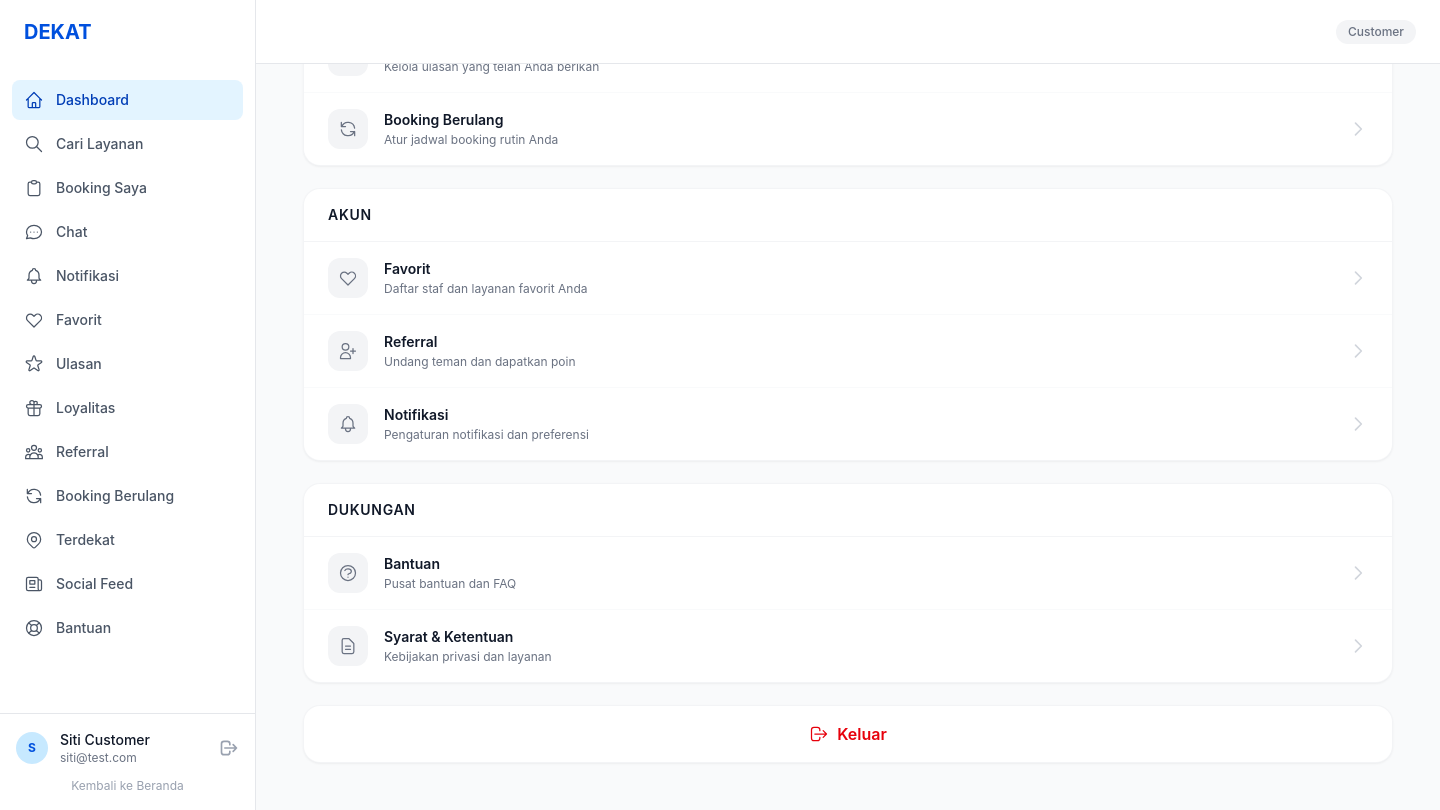
Test case: CustomerAccountPage › shows logout button and opens confirmation dialog
The image size is (1440, 810).
(page scrolled)
Click the button "Keluar" at {"x": 848, "y": 734}, box [304,706,1392,762]
(page scrolled)
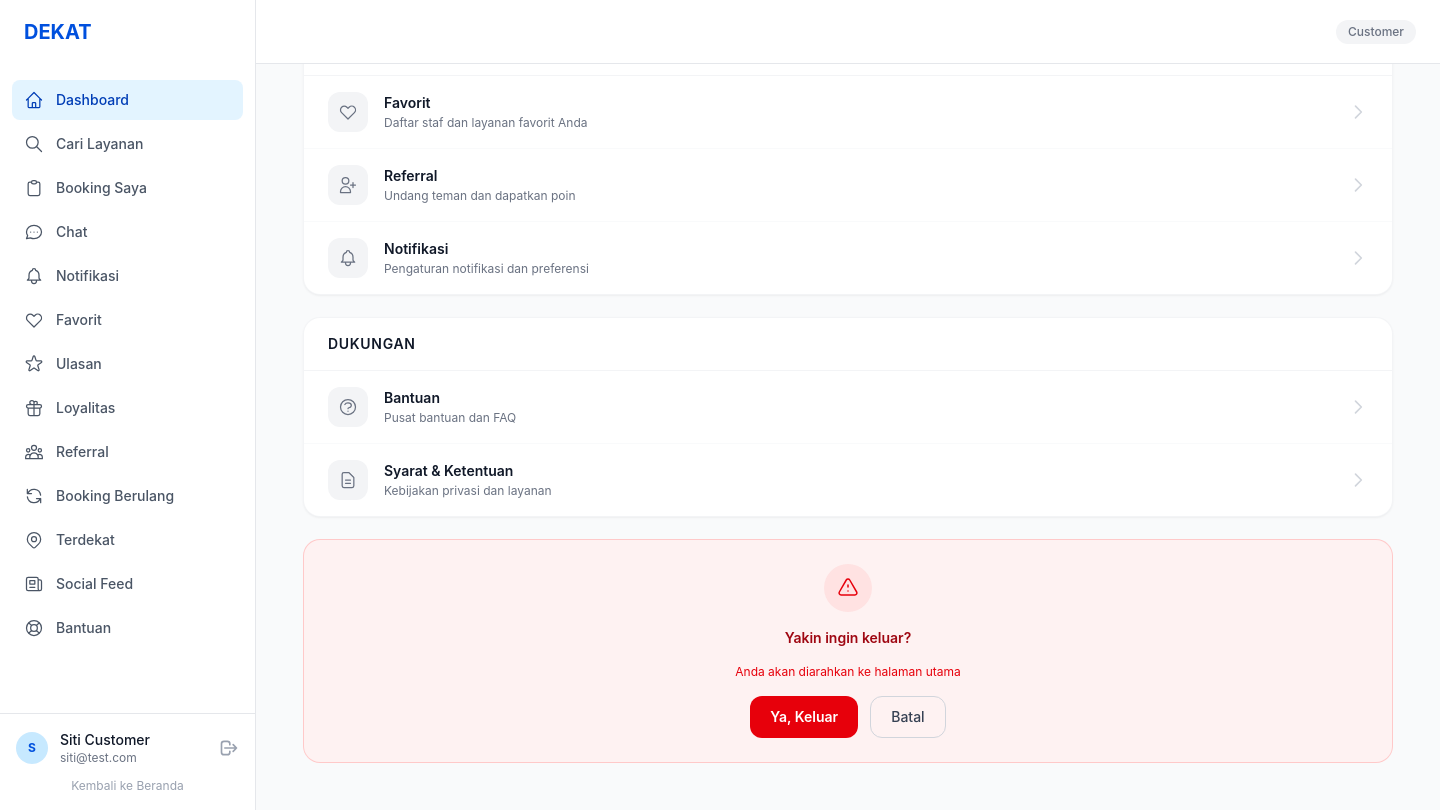
Expected: the text "Yakin ingin keluar?" is shown, [785,629,911,646]
Expected: the button "Ya, Keluar" is shown, [750,696,858,738]
Expected: the button "Batal" is shown, [870,696,946,738]
